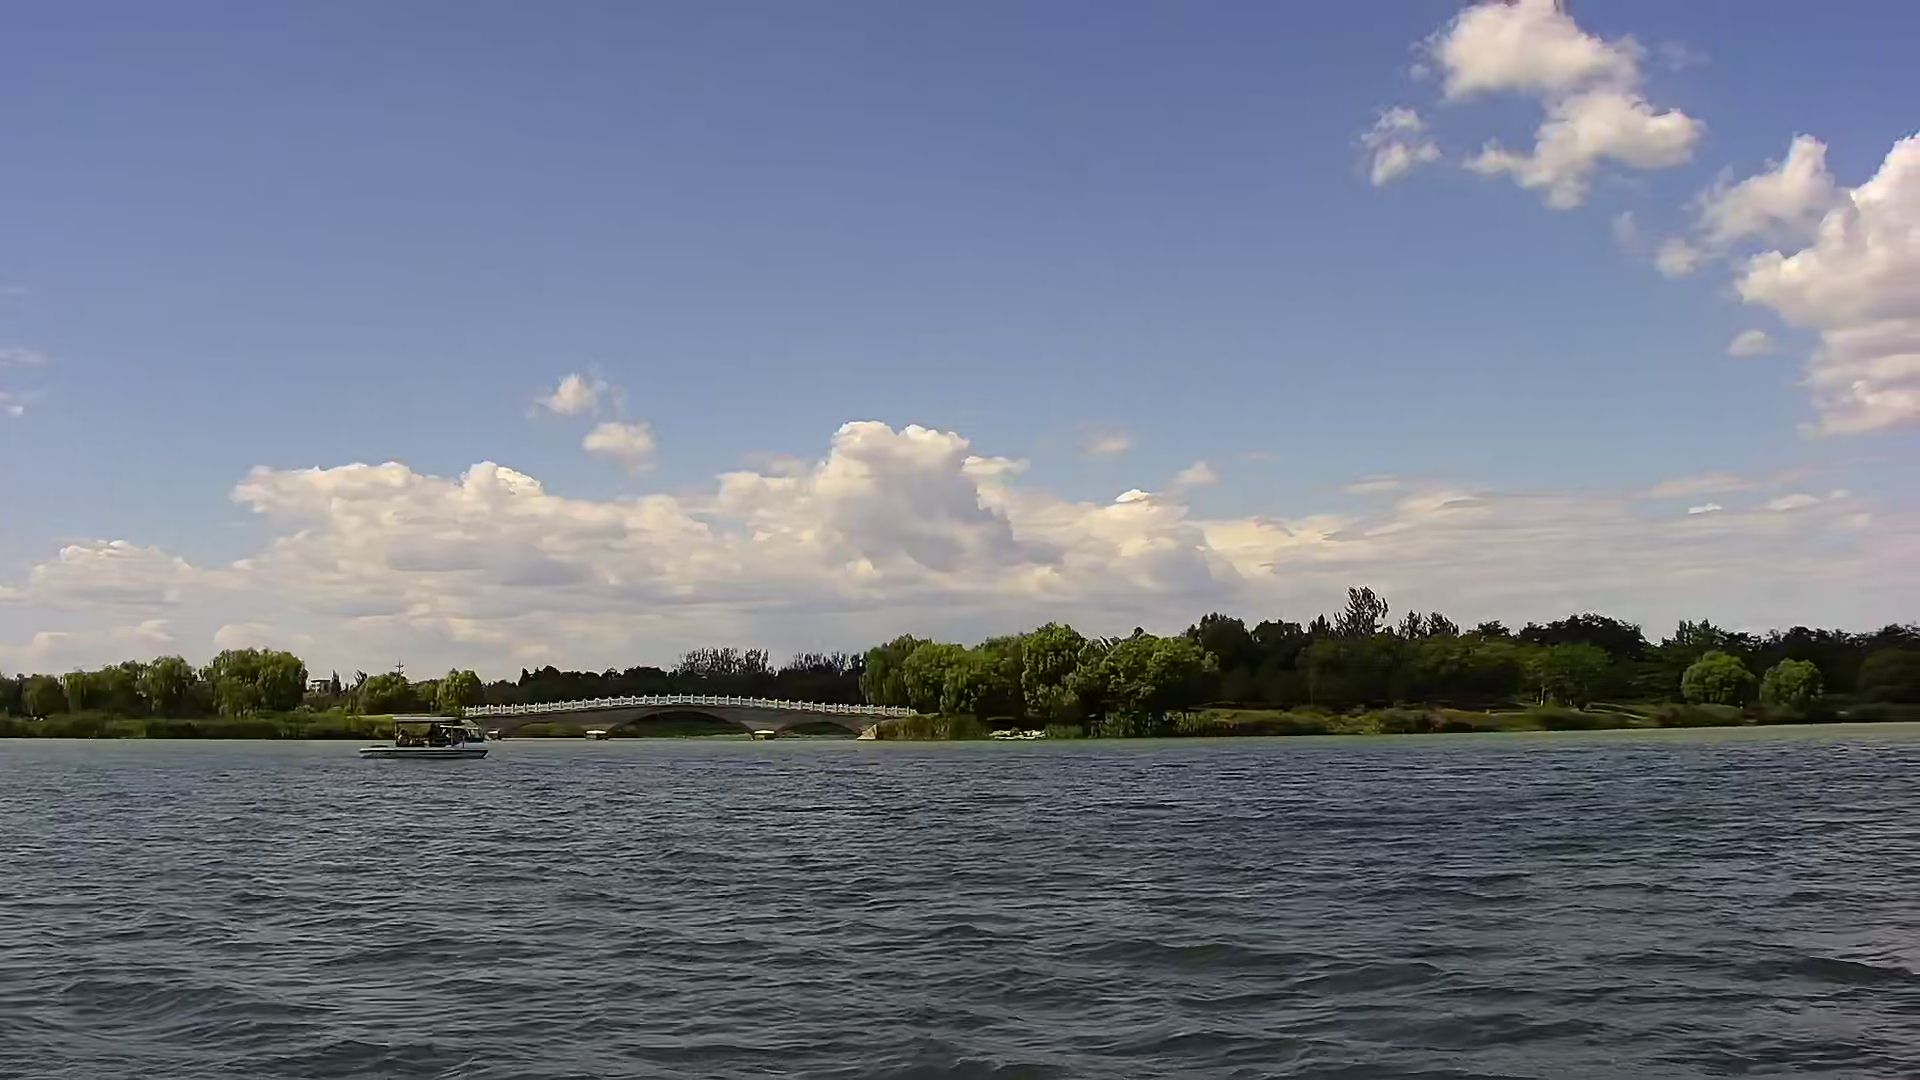boat: (367, 705, 496, 765)
bridge: (484, 700, 914, 738)
